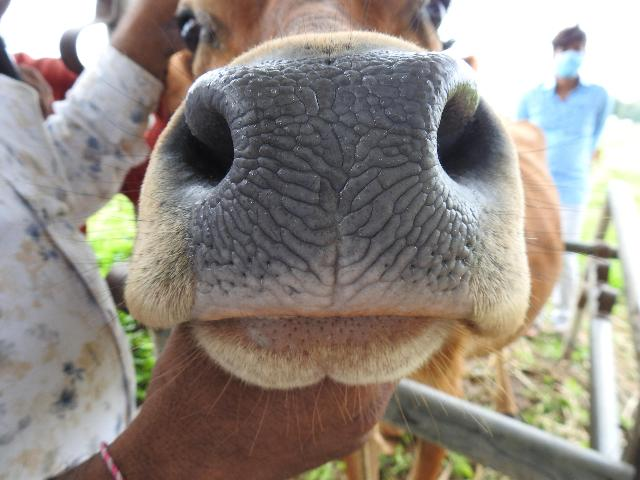Muzzle: (228, 60, 437, 294)
